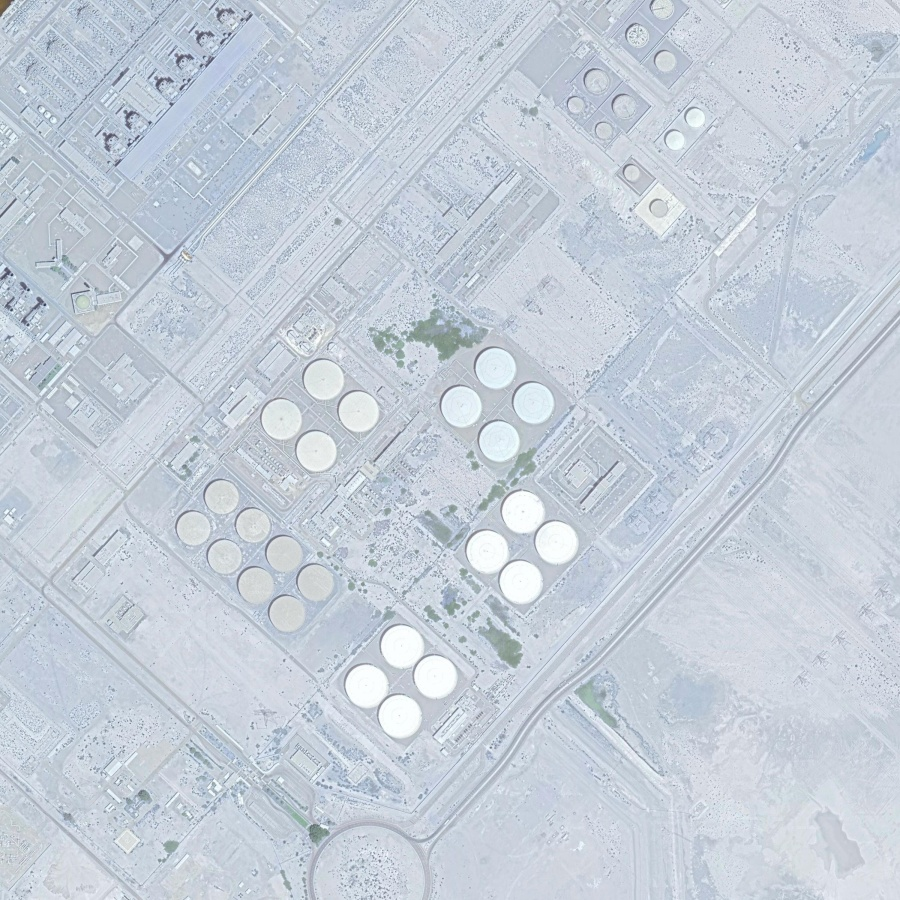PowerPlant: (166, 298, 616, 758)
